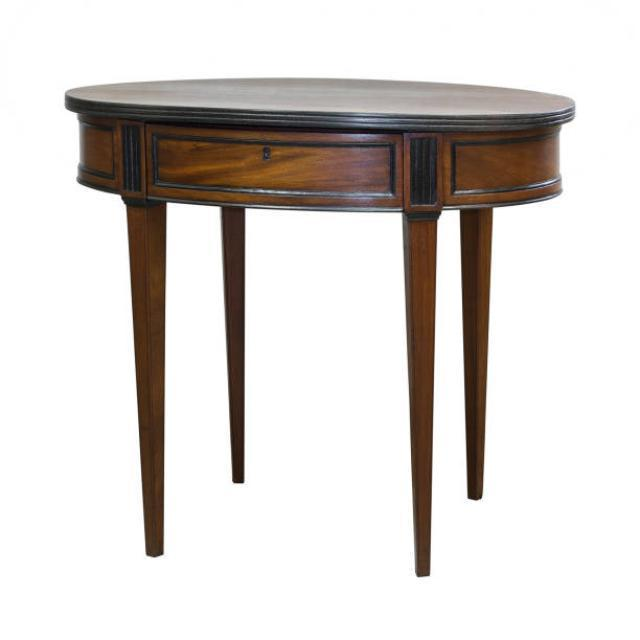table: (63, 76, 576, 576)
